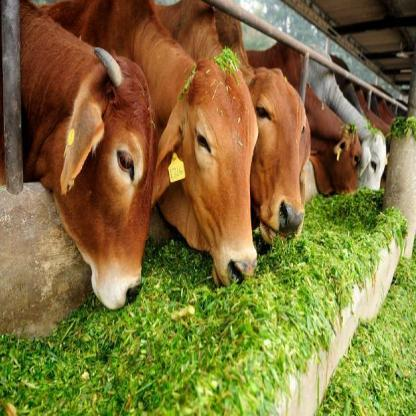cow: (35, 0, 259, 289), (0, 0, 154, 311), (149, 0, 311, 246), (244, 37, 361, 198), (303, 48, 388, 192)
